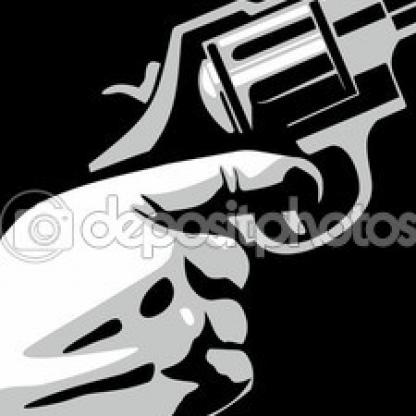gun: (78, 0, 414, 272)
